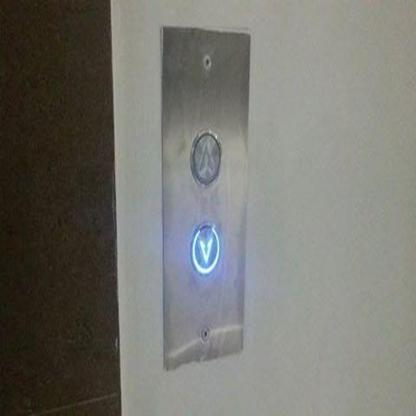down: (189, 221, 221, 276)
up: (190, 127, 221, 189)
